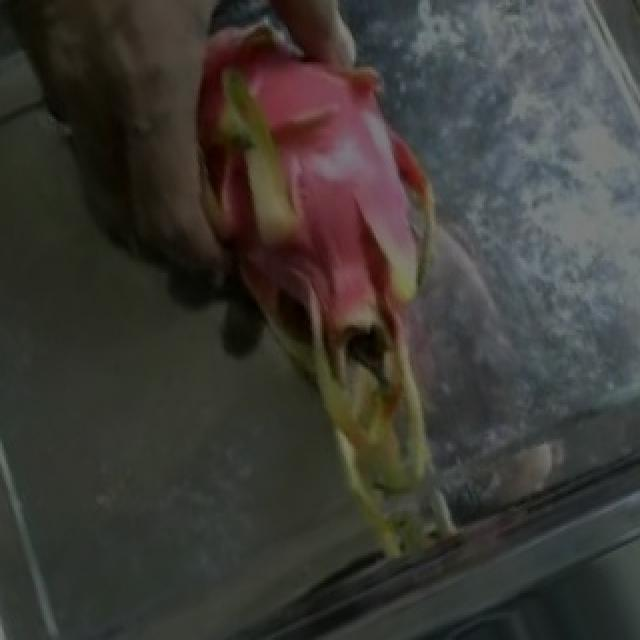fruit: (136, 5, 550, 449)
